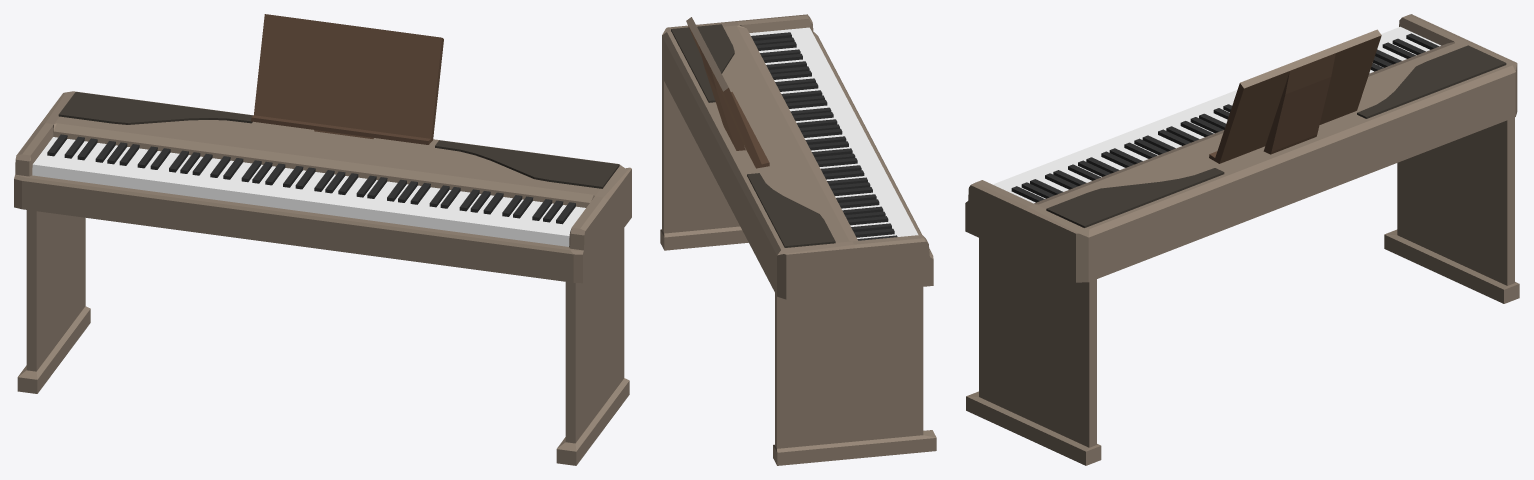
Rendered from Piano.fbx.
3 views of the same model, side by side, from view 1: azimuth 30°, elevation 25°; view 2: azimuth 150°, elevation 25°; view 3: azimuth 270°, elevation 25° (orthographic). The views are drawn at different scales.
Parts seen in each view (by area): view 1: Cube.035, Cube.037; view 2: Cube.035, Cube.037; view 3: Cube.035, Cube.037.
Part boxes in pixels (left/top/right/bottom): Cube.035: left=14, top=14, right=631, bottom=465; Cube.037: left=47, top=134, right=575, bottom=224; Cube.035: left=660, top=14, right=936, bottom=465; Cube.037: left=751, top=32, right=897, bottom=240; Cube.035: left=965, top=14, right=1519, bottom=465; Cube.037: left=1011, top=33, right=1439, bottom=202.
Size of the model in its own units: 1336 by 918 by 1401.
